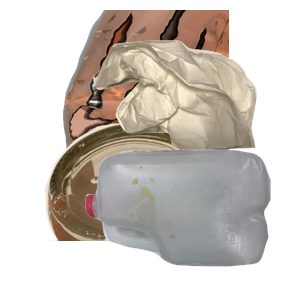glass: (22, 120, 233, 300)
metal: (60, 10, 300, 190)
plastic: (83, 147, 300, 300)
trash: (90, 38, 300, 183)
